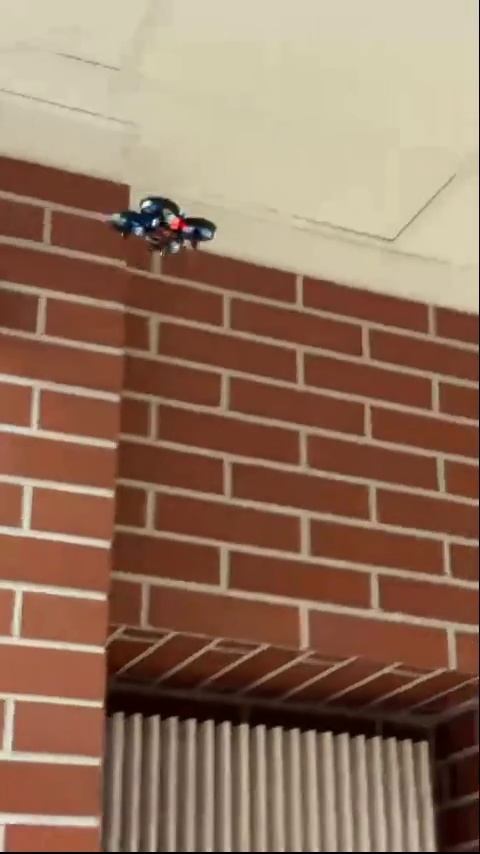drone: (105, 195, 215, 265)
